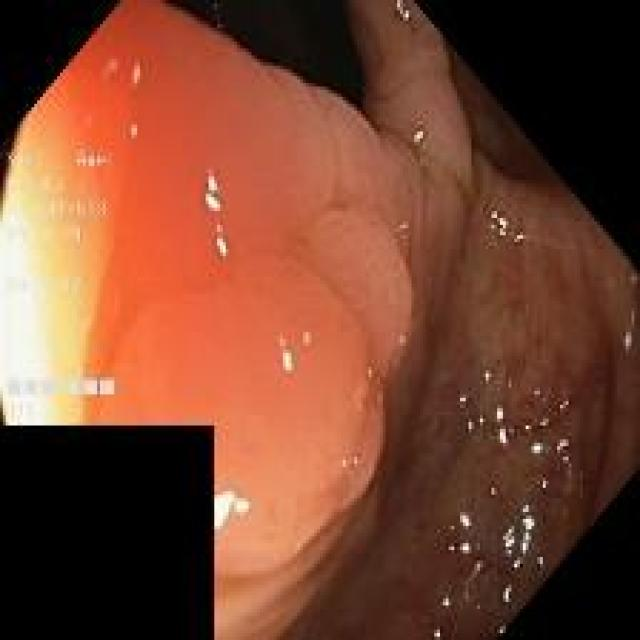Polyps: (2, 11, 409, 636)
